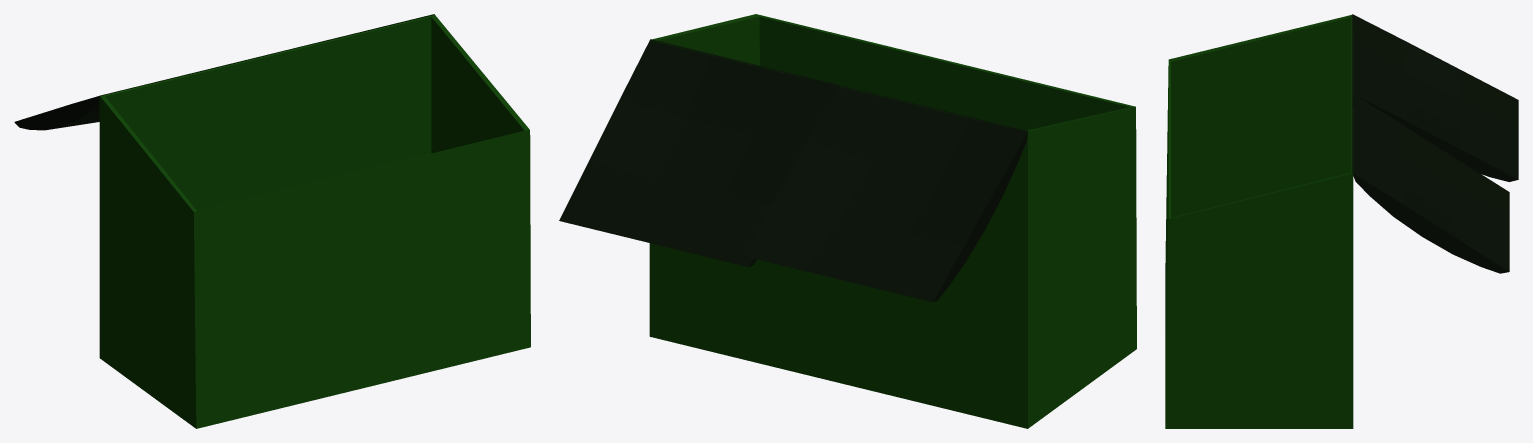
Rendered from dumpster_open.fbx.
The picture shows the model from 3 angles, left to right: view 1: azimuth 30°, elevation 25°; view 2: azimuth 150°, elevation 25°; view 3: azimuth 270°, elevation 25°; orthographic projection. The views are drawn at different scales.
Visible parts, largest first — view 1: dumpster, dumpster.003; view 2: dumpster, dumpster.003, dumpster.002; view 3: dumpster, dumpster.002, dumpster.003.
Part boxes in pixels (x1=…): dumpster: x1=99, y1=14, x2=530, y2=428; dumpster.003: x1=14, y1=55, x2=267, y2=130; dumpster: x1=649, y1=14, x2=1136, y2=428; dumpster.003: x1=743, y1=85, x2=1028, y2=302; dumpster.002: x1=559, y1=39, x2=839, y2=267; dumpster: x1=1165, y1=15, x2=1353, y2=428; dumpster.002: x1=1352, y1=93, x2=1509, y2=273; dumpster.003: x1=1352, y1=14, x2=1518, y2=181.
Size of the model in its own units: 804 by 601 by 751.
